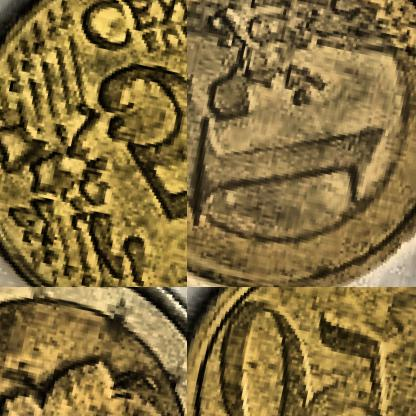coin: (187, 0, 415, 286), (0, 0, 186, 286), (187, 287, 415, 415), (0, 287, 186, 415)
